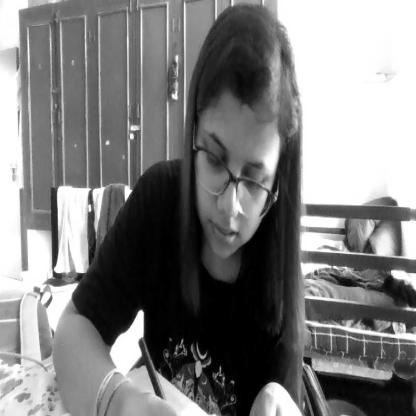Distracted: (192, 3, 304, 276)
